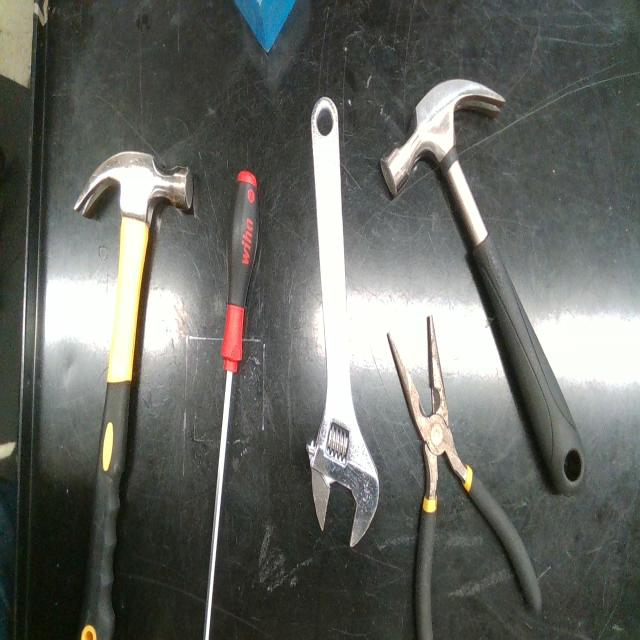Screwdriver: (204, 171, 259, 639)
